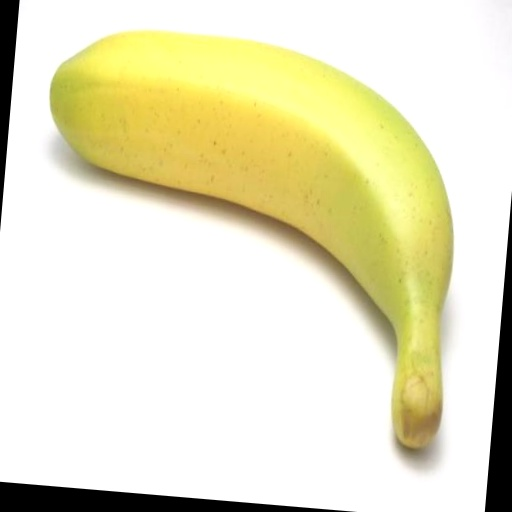fruit: (50, 31, 453, 448)
